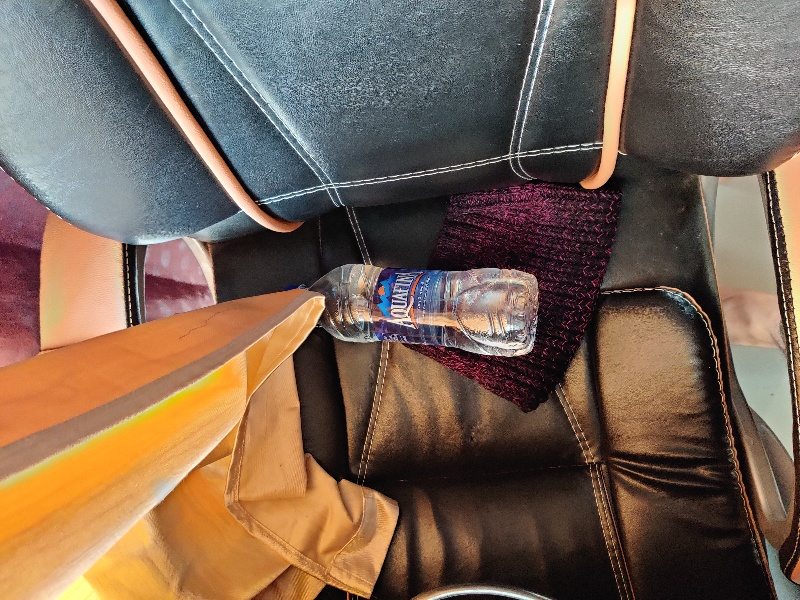bottle: (278, 251, 547, 362)
